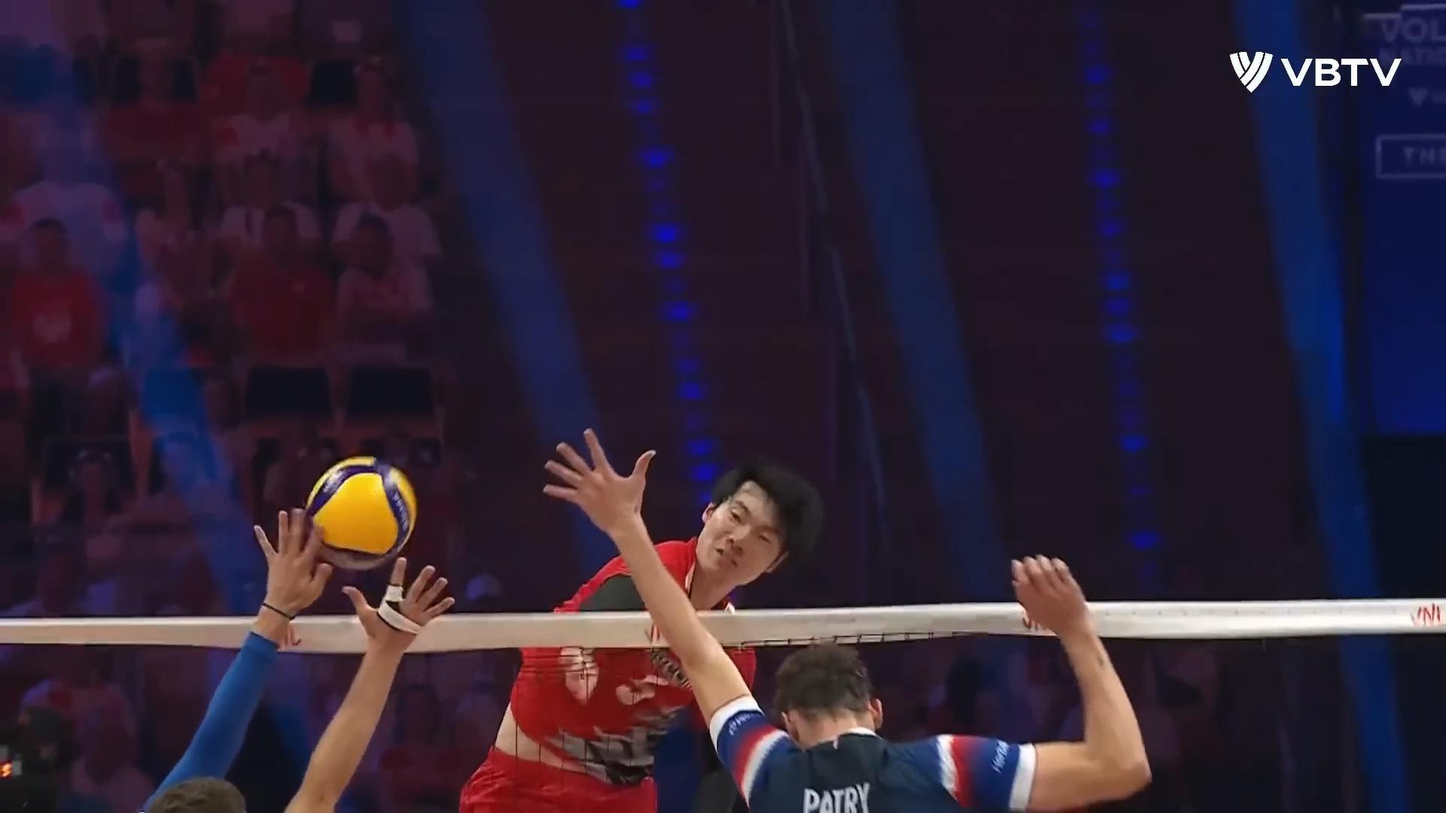ball: (299, 454, 421, 569)
